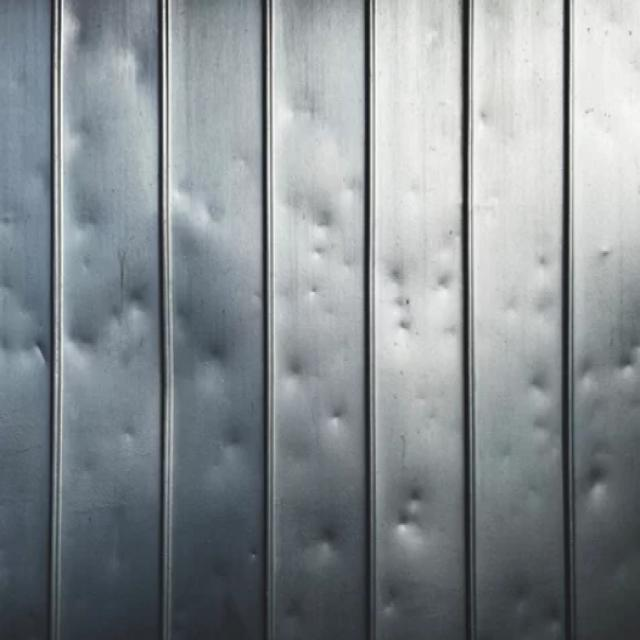dents: (376, 563, 428, 638), (96, 505, 142, 588), (117, 38, 167, 113), (190, 334, 249, 391), (63, 207, 123, 255), (496, 540, 536, 611), (4, 43, 46, 108), (65, 324, 112, 382), (395, 479, 432, 546), (607, 343, 640, 402), (114, 414, 152, 462), (65, 10, 102, 55), (0, 193, 28, 252), (68, 444, 111, 482), (281, 338, 309, 396), (284, 423, 316, 472), (308, 521, 345, 563), (586, 458, 621, 502), (324, 390, 355, 438), (214, 420, 248, 463), (207, 198, 241, 241), (442, 315, 474, 357), (284, 587, 315, 630), (520, 474, 550, 518), (284, 99, 332, 126), (432, 264, 461, 306), (120, 284, 152, 322), (492, 298, 526, 332), (174, 179, 199, 224), (531, 249, 556, 293), (522, 367, 556, 398), (500, 296, 530, 330), (298, 273, 331, 302), (388, 268, 415, 301), (74, 114, 94, 156), (0, 282, 28, 310), (319, 202, 338, 243), (576, 362, 601, 392), (232, 141, 254, 174), (4, 338, 23, 374)
